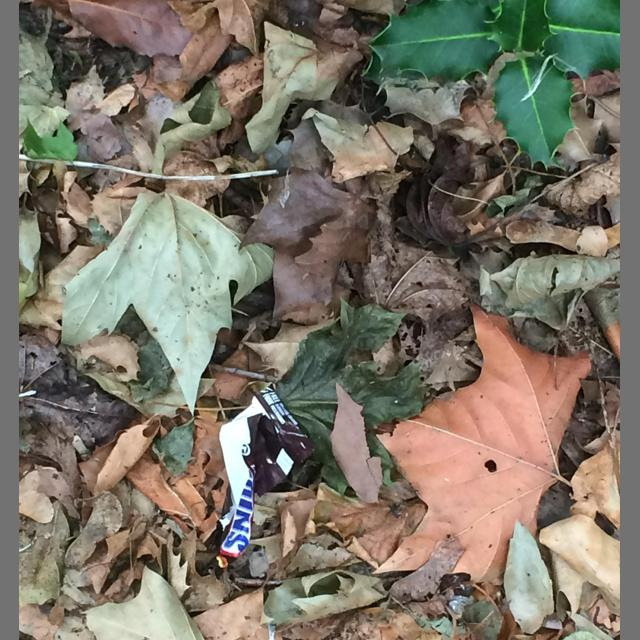litter: (204, 383, 315, 580)
